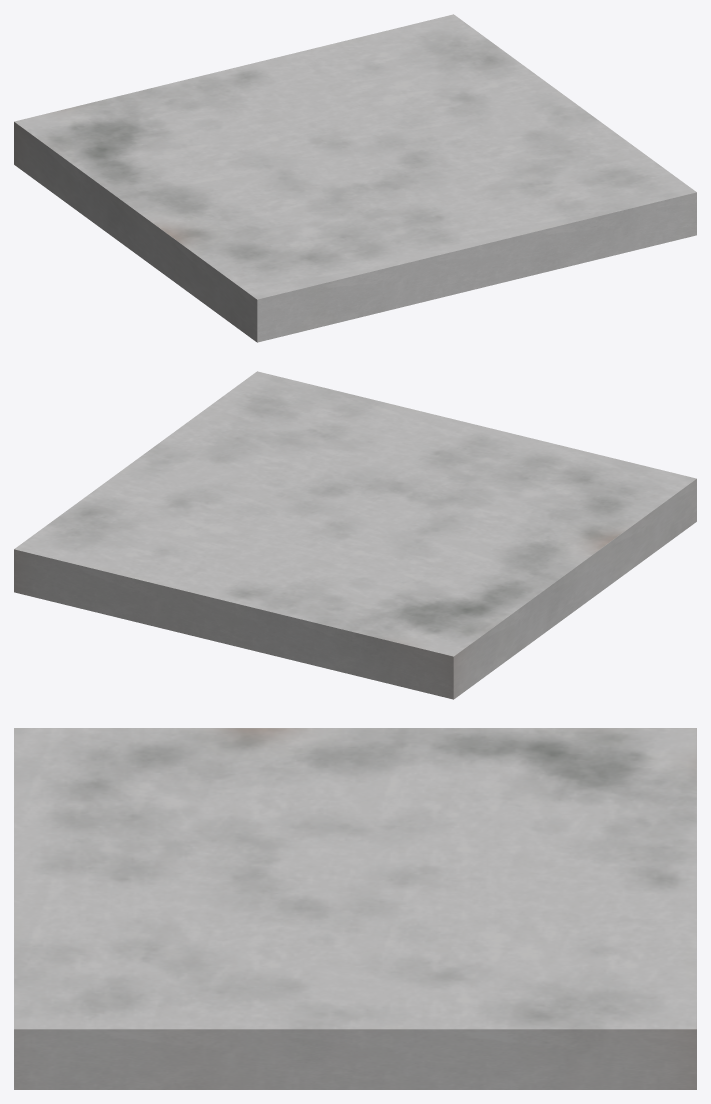
The model's file is bathroom_floor.glb.
3 renders of one model, top to bottom at view 1: azimuth 30°, elevation 25°; view 2: azimuth 150°, elevation 25°; view 3: azimuth 270°, elevation 25°, orthographic. The views are drawn at different scales.
Parts seen in each view (by area): view 1: pCube4; view 2: pCube4; view 3: pCube4.
Part boxes in pixels (x1,y1,x2,y2): pCube4: [14, 14, 696, 342]; pCube4: [14, 371, 696, 699]; pCube4: [14, 728, 696, 1089].
Size of the model in its own units: 2.09 by 0.1952 by 2.
1 material, 1 textured.
